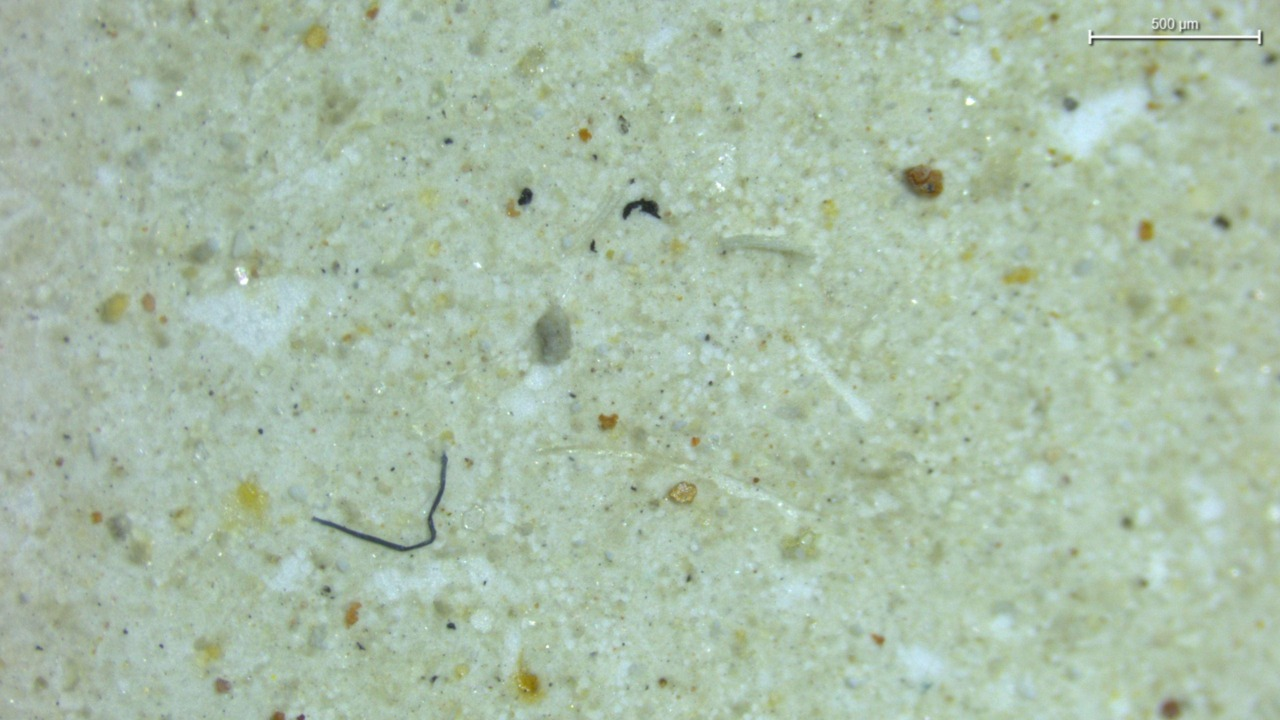microplastic_fragment: (534, 305, 572, 364)
